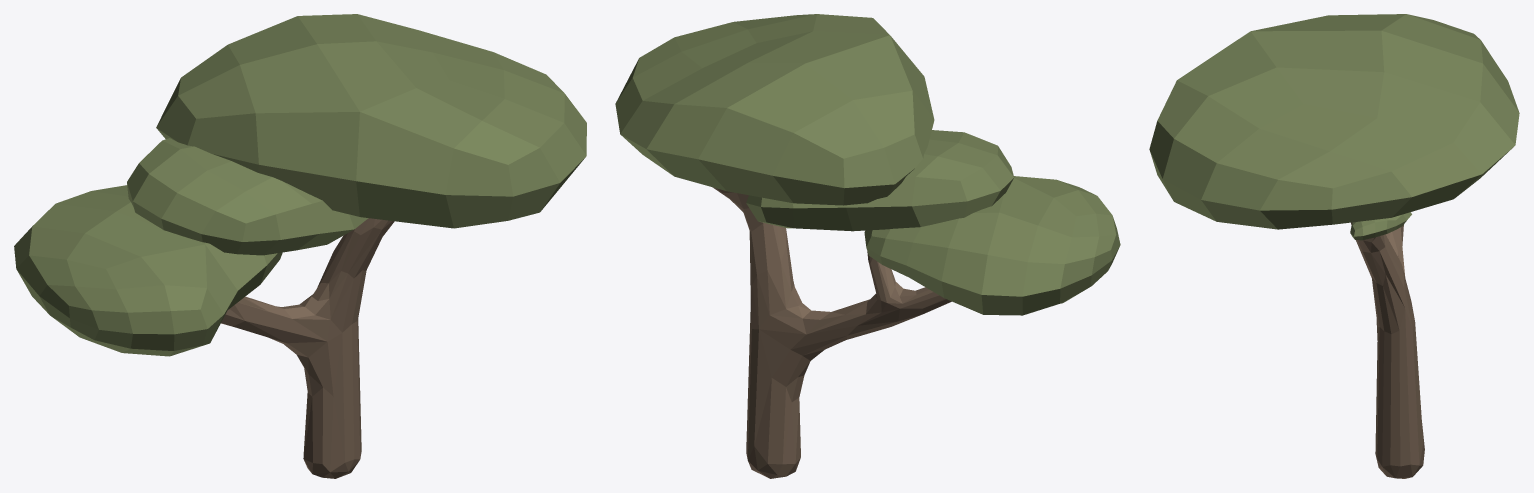
File: tree-5.fbx
The picture shows the model from 3 angles, left to right: view 1: azimuth 30°, elevation 25°; view 2: azimuth 150°, elevation 25°; view 3: azimuth 270°, elevation 25°; orthographic projection. The views are drawn at different scales.
Parts seen in each view (by area): view 1: Cube.039, Cube.009, Cube.010, Cube.008; view 2: Cube.039, Cube.009, Cube.008, Cube.010; view 3: Cube.039, Cube.008, Cube.012.
Part boxes in pixels (<box>): Cube.039: <box>156,14,586,228</box>; Cube.009: <box>14,185,282,356</box>; Cube.010: <box>127,138,368,255</box>; Cube.008: <box>221,218,394,478</box>; Cube.039: <box>615,14,934,205</box>; Cube.009: <box>864,176,1120,315</box>; Cube.008: <box>713,187,951,478</box>; Cube.010: <box>746,130,1014,231</box>; Cube.039: <box>1149,14,1519,229</box>; Cube.008: <box>1351,222,1424,478</box>; Cube.012: <box>1350,212,1411,240</box>.
Bounding box in the file's own units: 2957 × 2479 × 1921.
